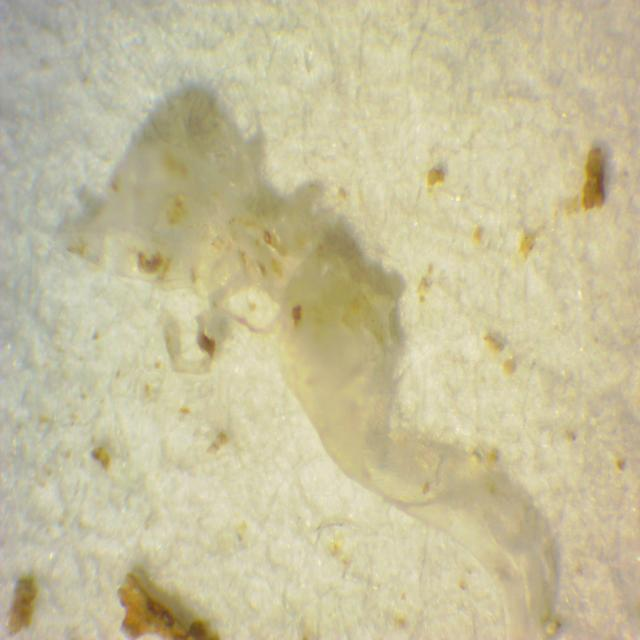microplastic: (69, 97, 557, 629)
